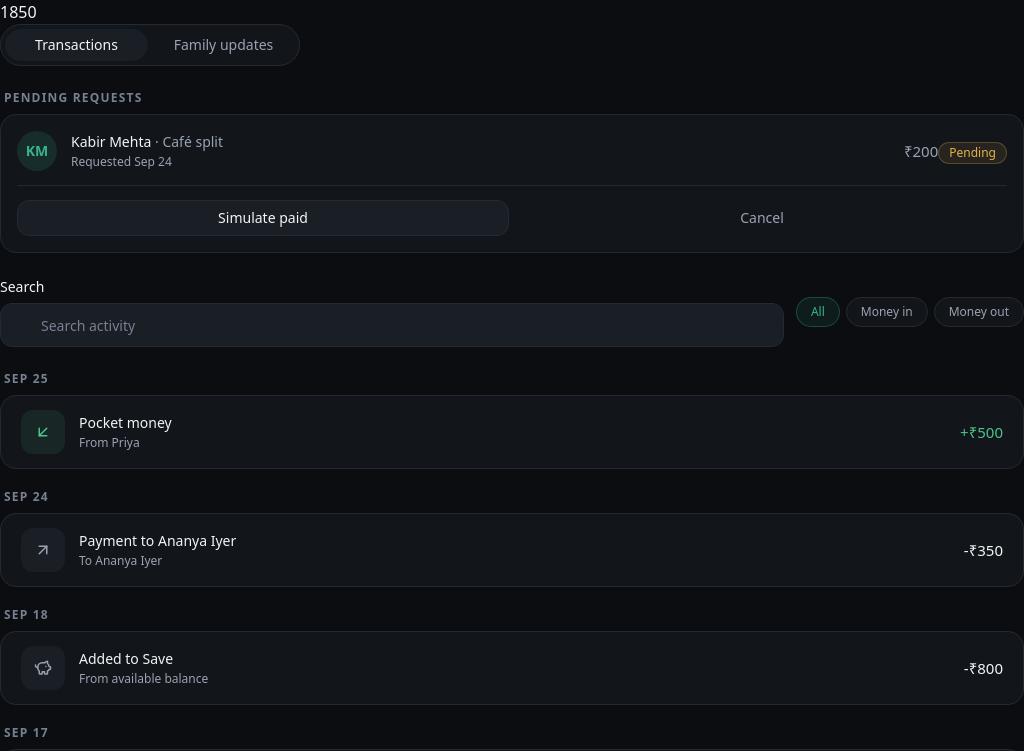
Test case: activity feed › direction filters work on real state
Click the button "Money in" at (887, 312), box [846, 297, 928, 327]
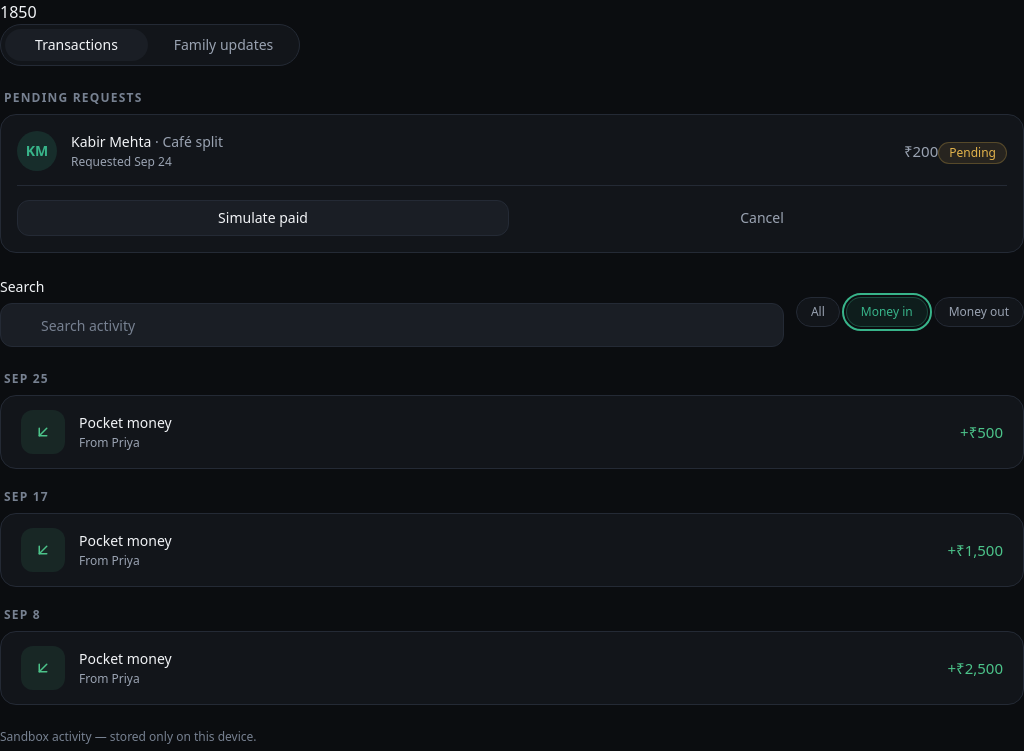
expect the text "Pocket money" is shown 3 times: met, box [79, 413, 172, 432]; [79, 531, 172, 550]; [79, 649, 172, 668]
expect the button "Payment to Ananya Iyer" is gone: met
expect the button "Added to Save" is gone: met
Click the button "Money out" at (979, 312), box [934, 297, 1023, 327]
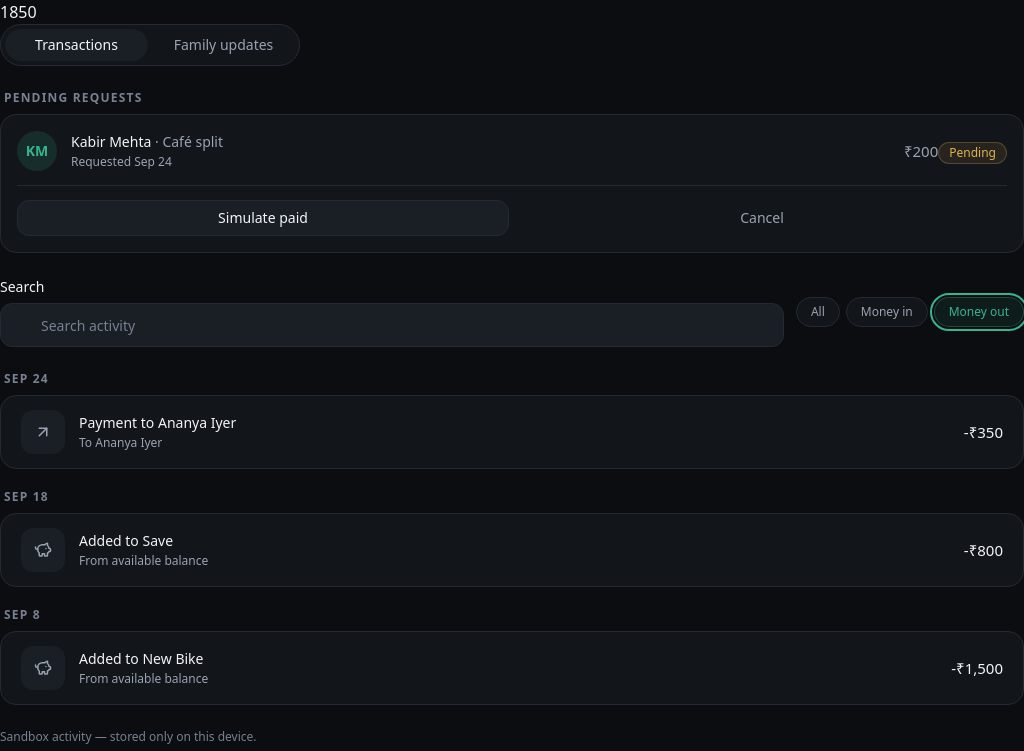
expect the text "Payment to Ananya Iyer" is shown: met, box [79, 413, 236, 432]
expect the button "Pocket money" is gone: met
